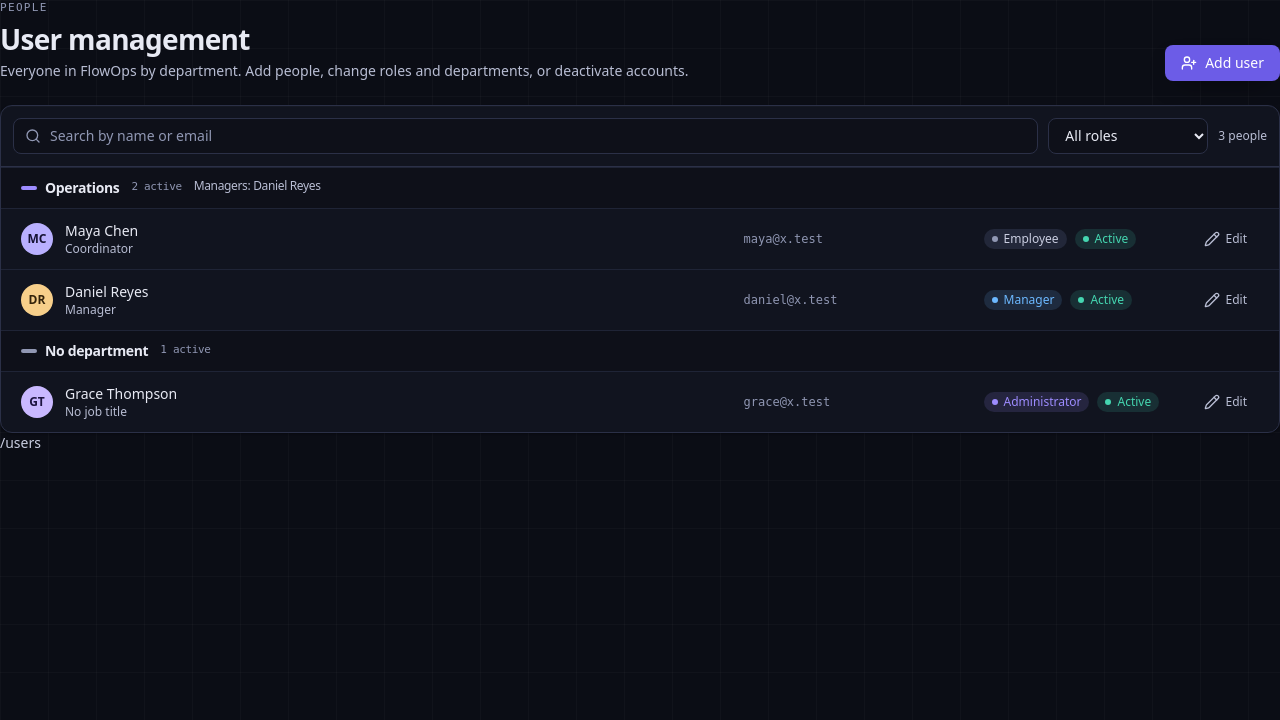
Scenario: People › groups people by department and edits them in a side panel
Expected: the text "Managers: Daniel Reyes" is shown, [194, 178, 321, 194]
Expected: the heading "No department 1 active" is shown, [1, 330, 1279, 372]
Click the button with aria-label "Edit Maya Chen": (1225, 239) [1192, 223, 1259, 255]
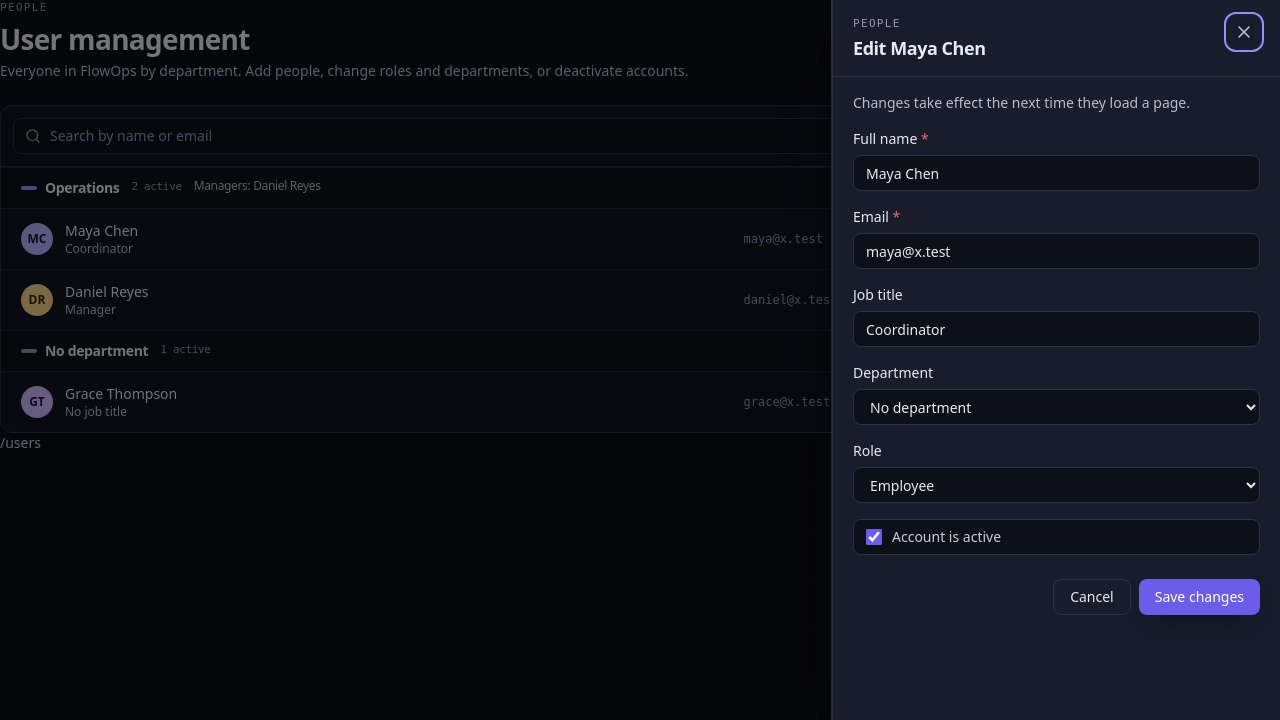
Click the checkbox labelled "Account is active": (874, 538) [866, 530, 882, 546]
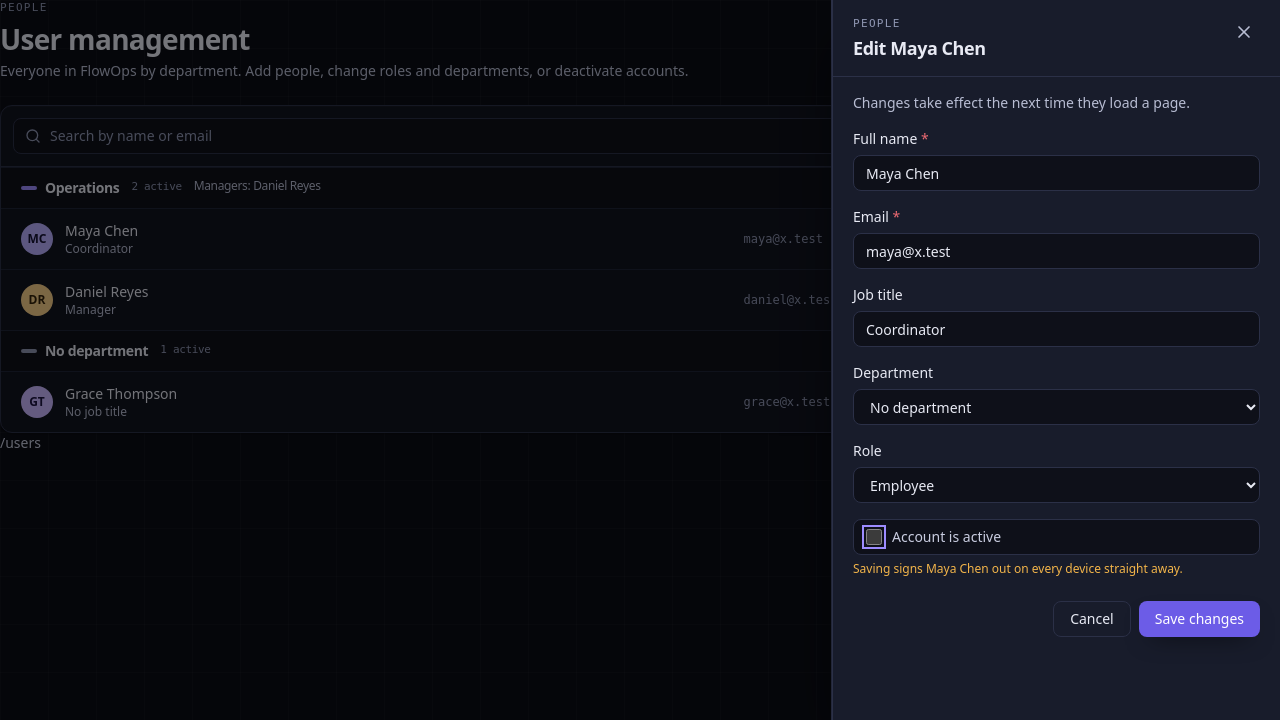
Expected: the text "Saving signs Maya Chen out on every device straight away." is shown, [853, 560, 1183, 578]
Press Escape
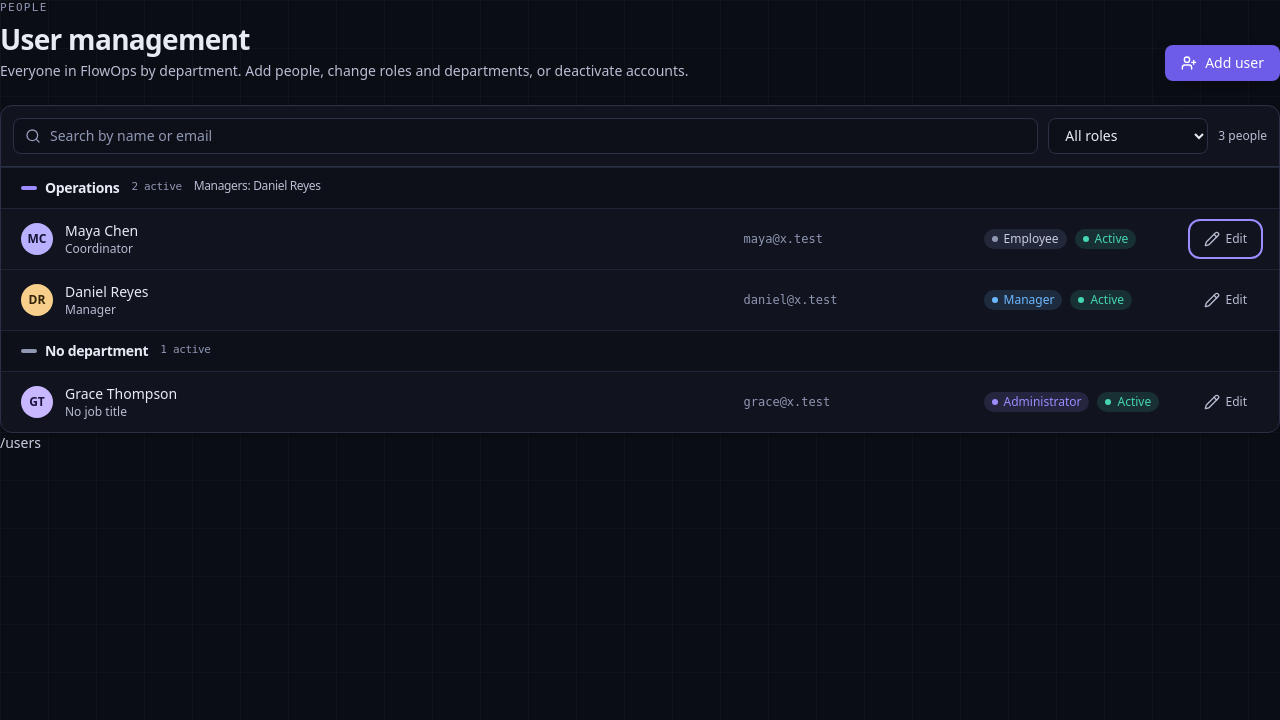
Expected: the dialog is gone
